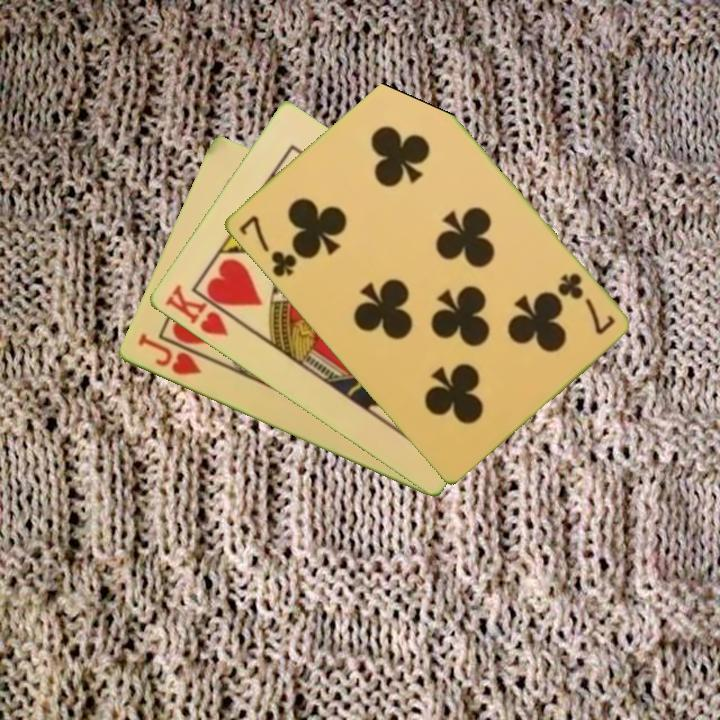7c: (234, 211, 299, 280), (553, 269, 618, 338)
Jh: (133, 330, 204, 379)
Kh: (160, 281, 243, 340)
